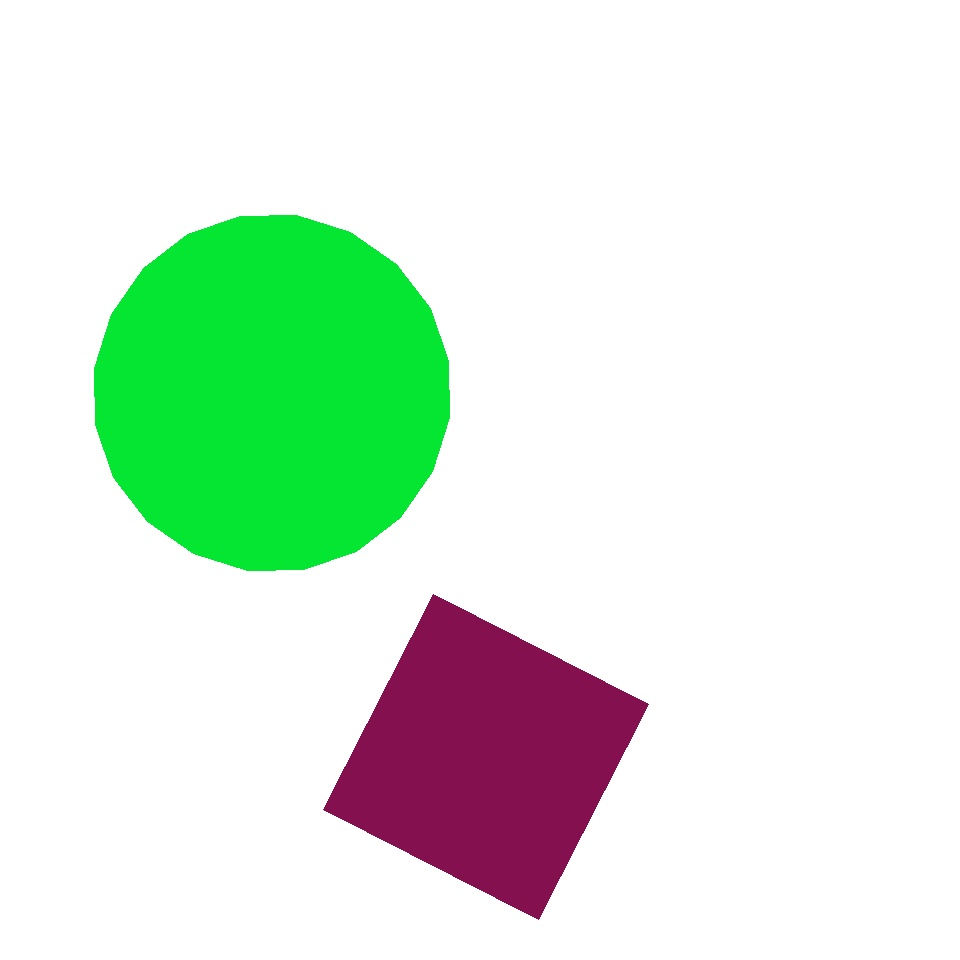circle: (224, 310, 490, 602)
square: (323, 594, 648, 920)
triangle: (94, 215, 450, 570), (526, 156, 750, 378)
